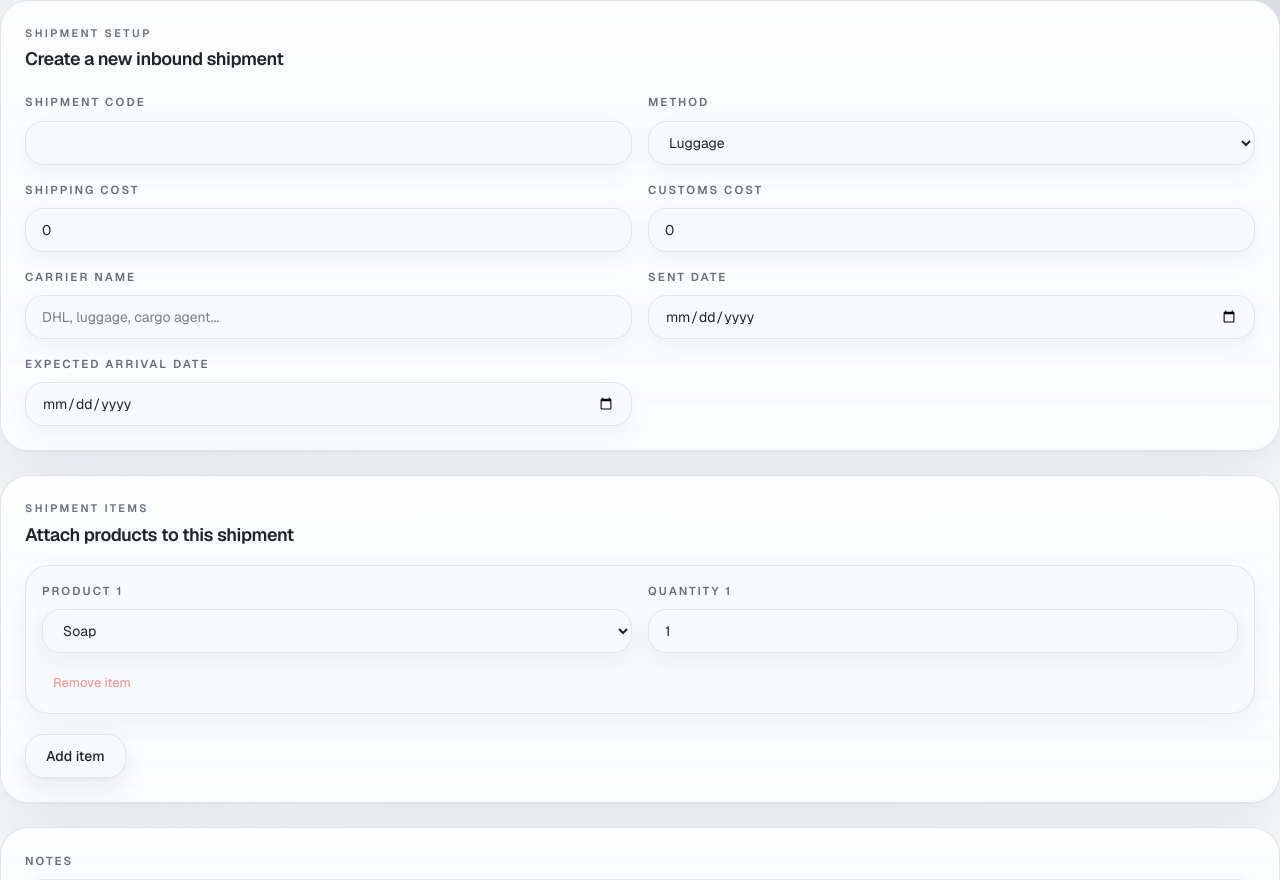
ShipmentForm › can add and remove item rows
Expected: the number of buttons "Remove item" is 1, [42,669,142,697]
Click the button "Add item": click(75, 756) [25,734,126,778]
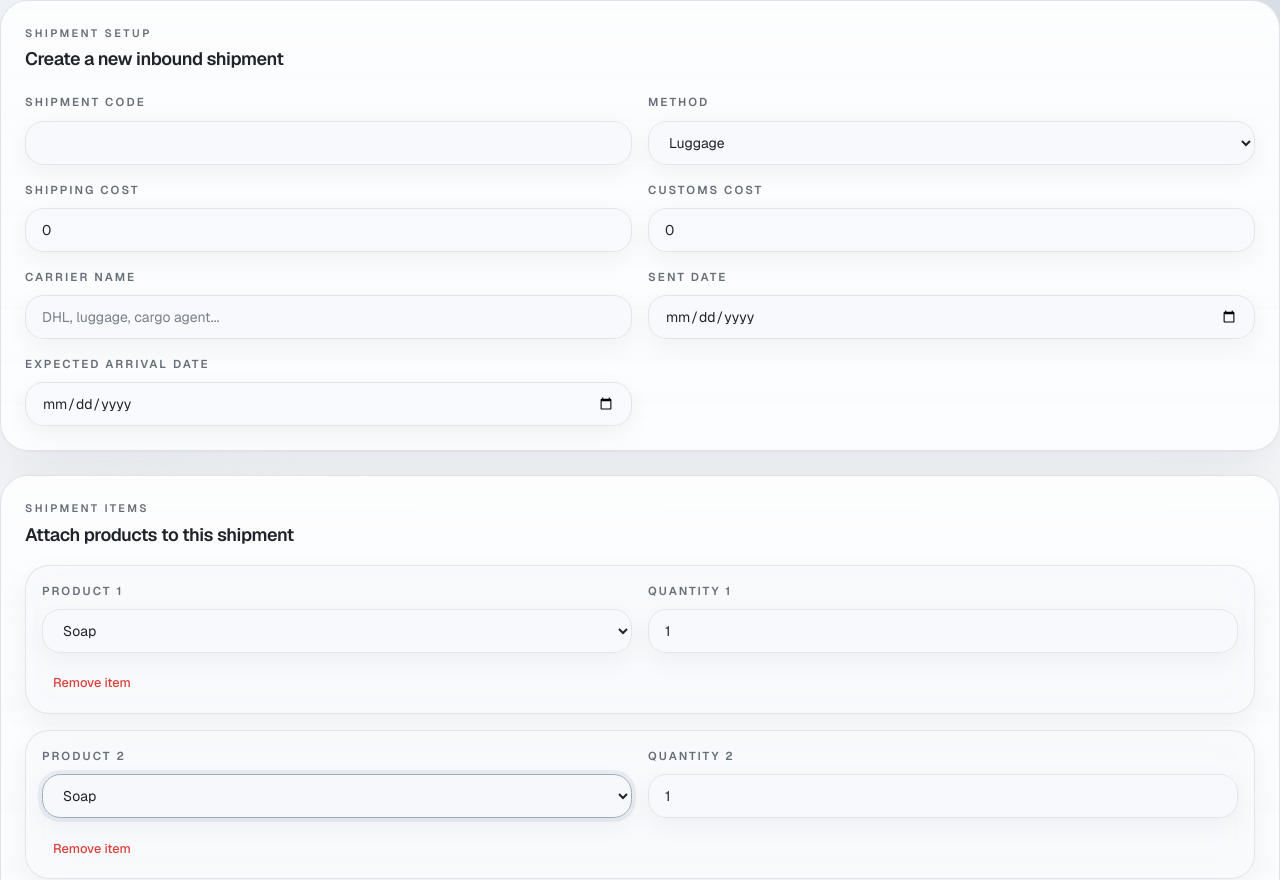
Result: the number of buttons "Remove item" is 2
Click the button "Remove item" below "Product 2": click(92, 848) [42,834,142,862]
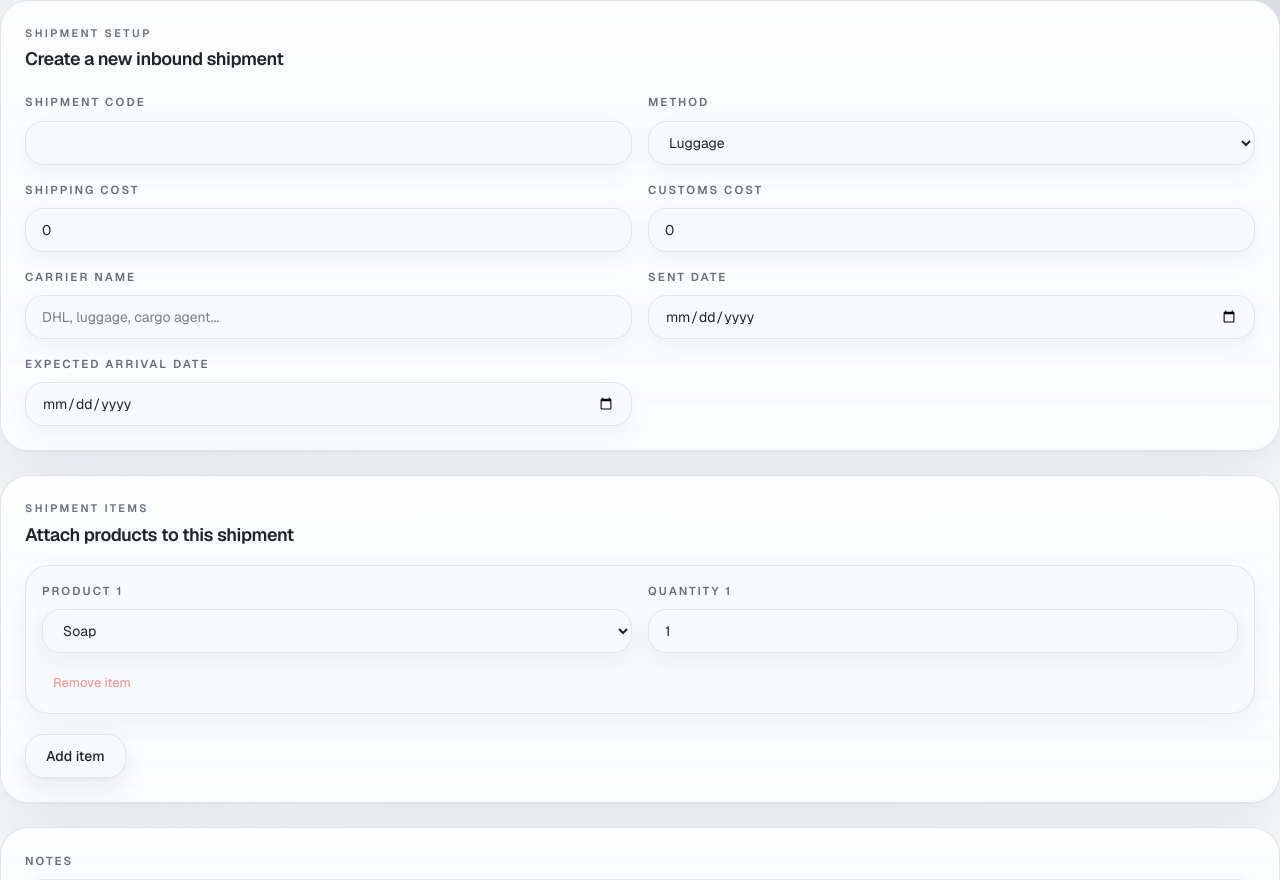
Result: the number of buttons "Remove item" is 1 at [42,669,142,697]
